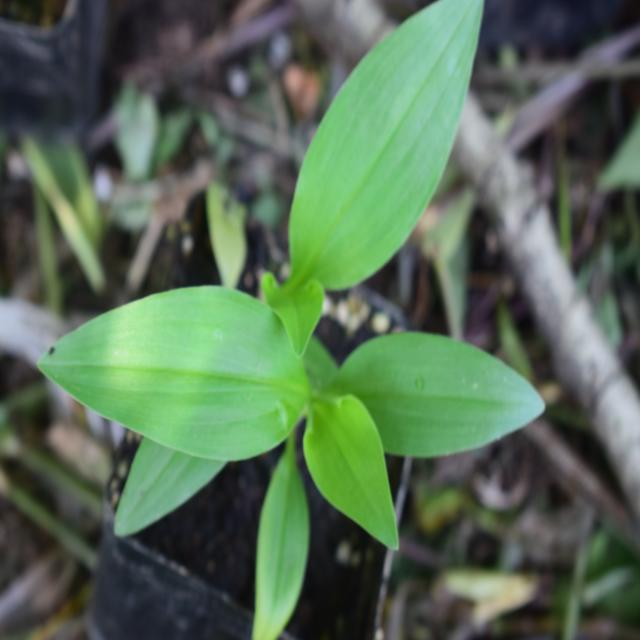Common Dayflower: (53, 290, 539, 584), (265, 12, 520, 291)
